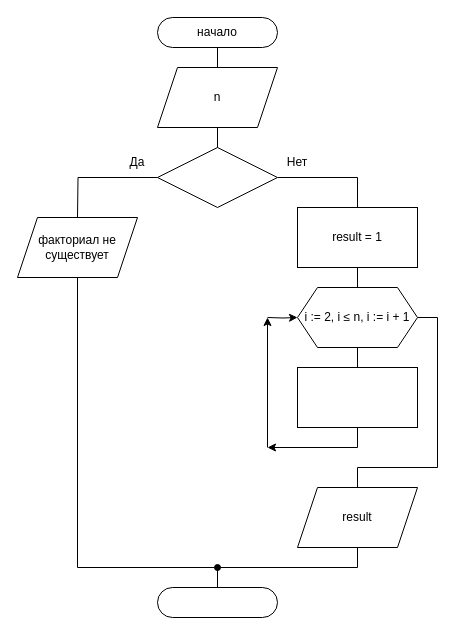
This 456x635 diagram has some shape labels left out. Here are the shapes that lost their labels. From the top down, the centre of each, then its label:
At (x=217, y=177): "n < 0".
At (x=357, y=397): "result = result * i".
At (x=217, y=602): "конец".
